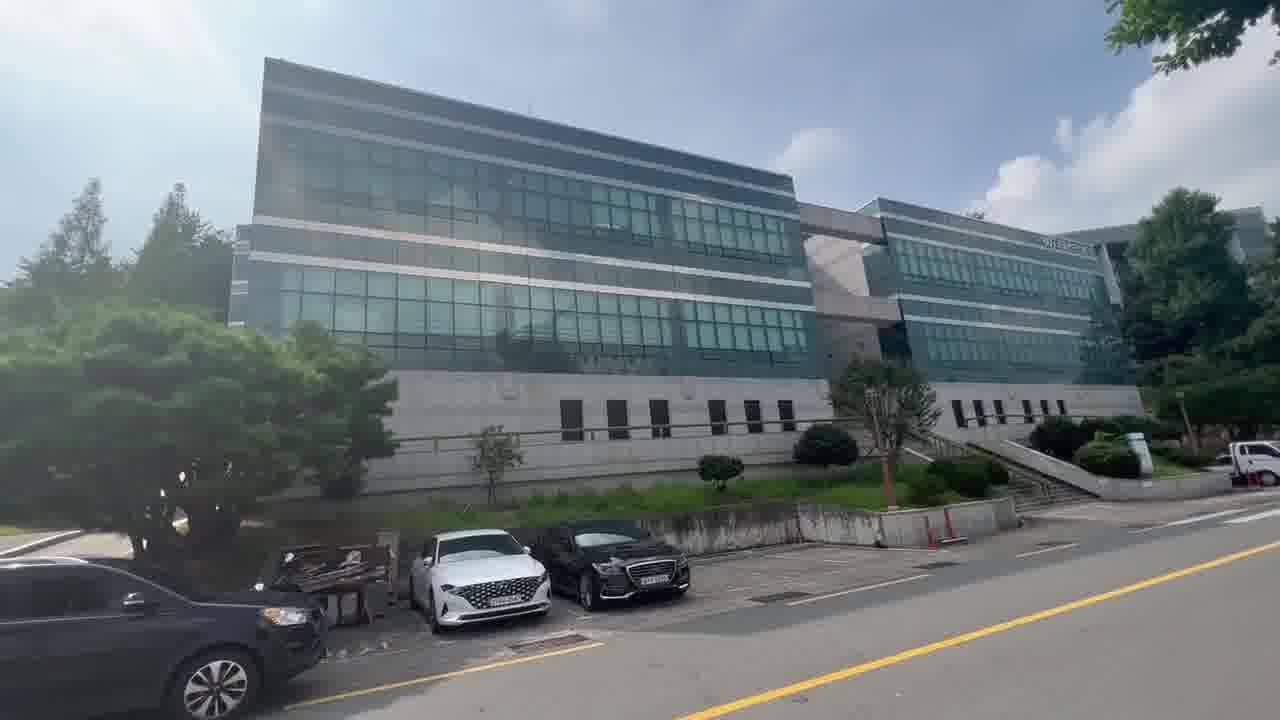building: (263, 54, 1107, 416)
